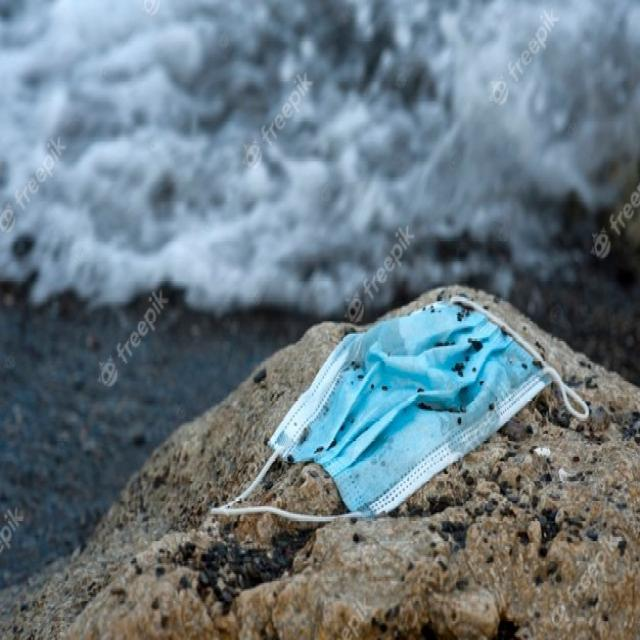face mask: (215, 294, 587, 532)
